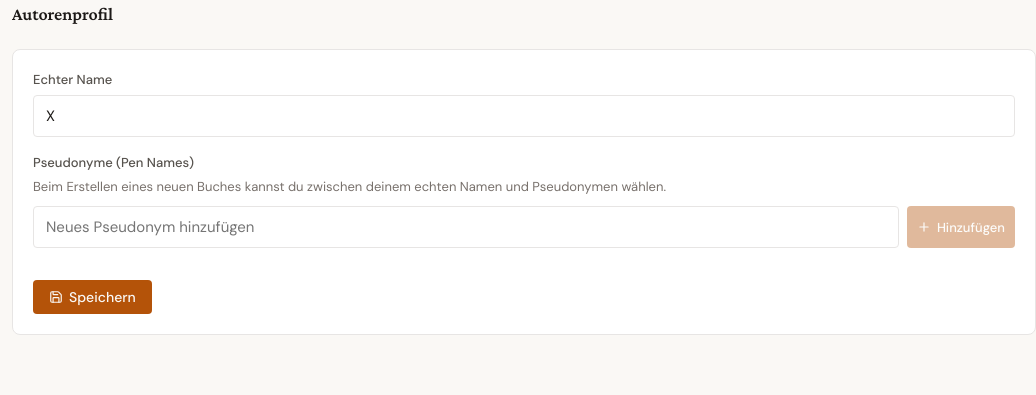
AuthorSettings › adds a pen-name via the add button
Type "Pseudo" into the field with test id "author-pen-name-input" at (466, 227), box [33,206,899,248]
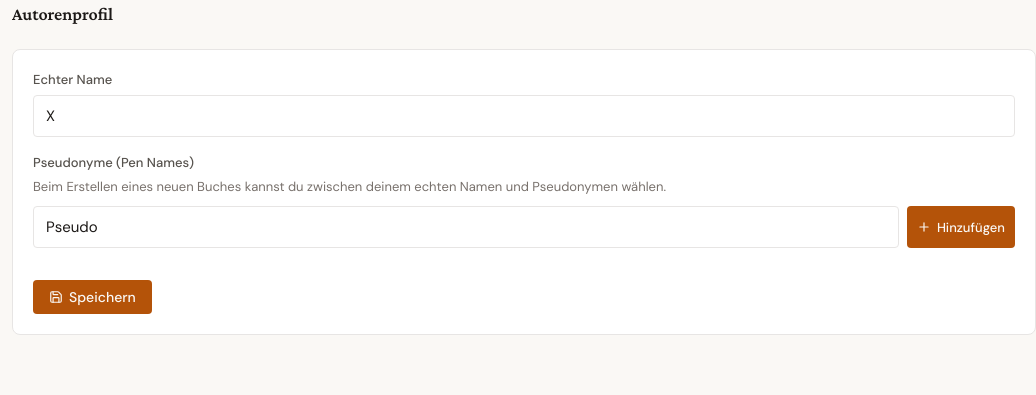
Click the button with test id "author-pen-name-add" at (961, 227), box [907,206,1015,248]
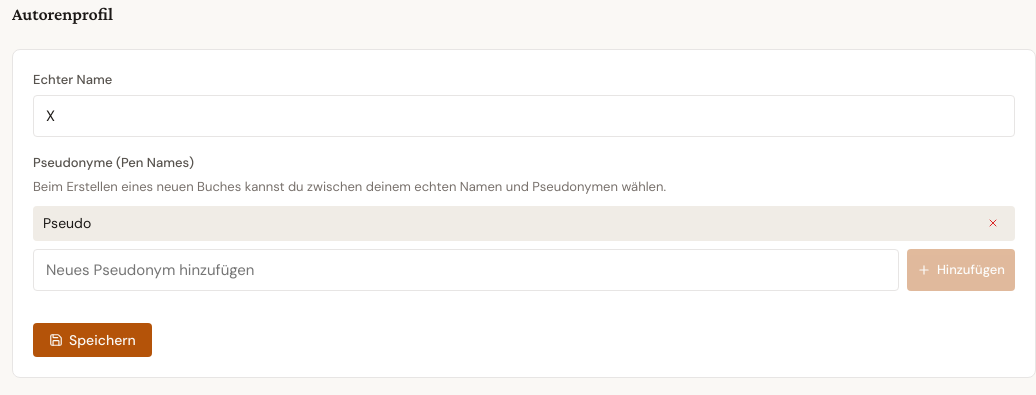
Expected: the element with test id "author-pen-name-0" reads "Pseudo", [43,214,91,232]
Expected: the field with test id "author-pen-name-input" is empty, [33,249,899,291]
